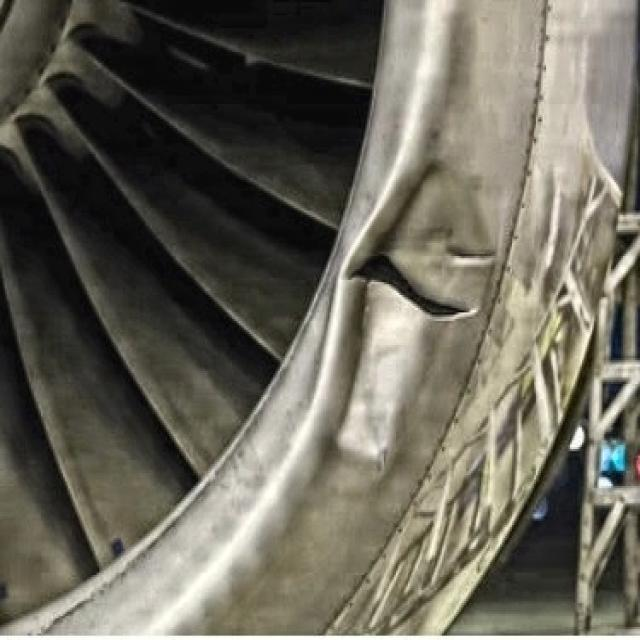crack: (351, 246, 483, 324)
